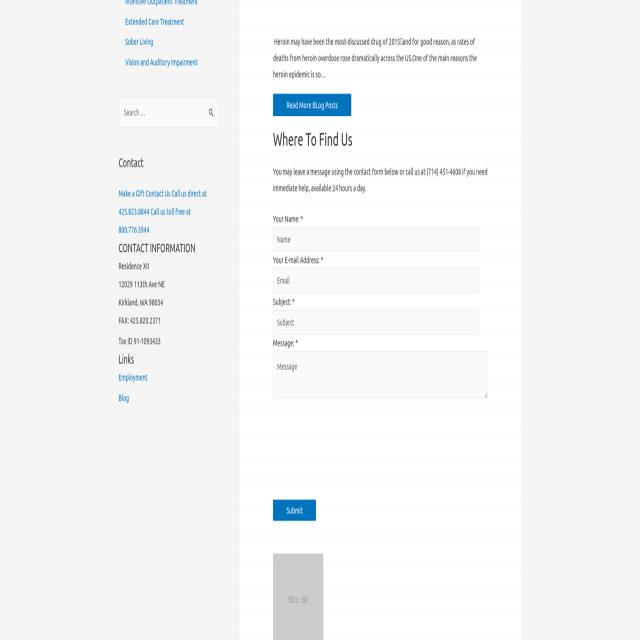button: (273, 93, 351, 116), (273, 499, 316, 521), (206, 102, 216, 122)
field: (273, 351, 488, 399), (273, 268, 479, 294), (273, 227, 479, 252), (273, 310, 479, 335), (119, 97, 219, 127)
